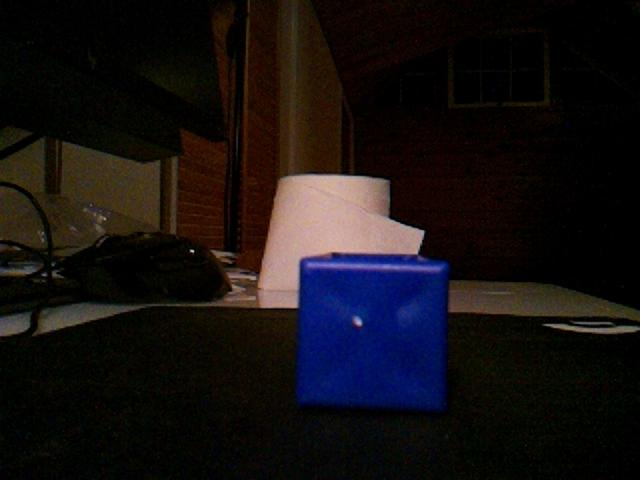blue: (294, 251, 451, 414)
